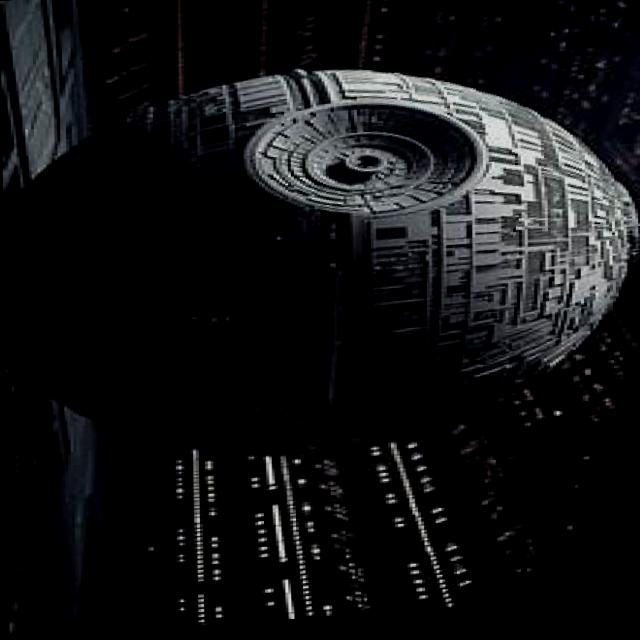deathStar: (9, 56, 639, 472)
